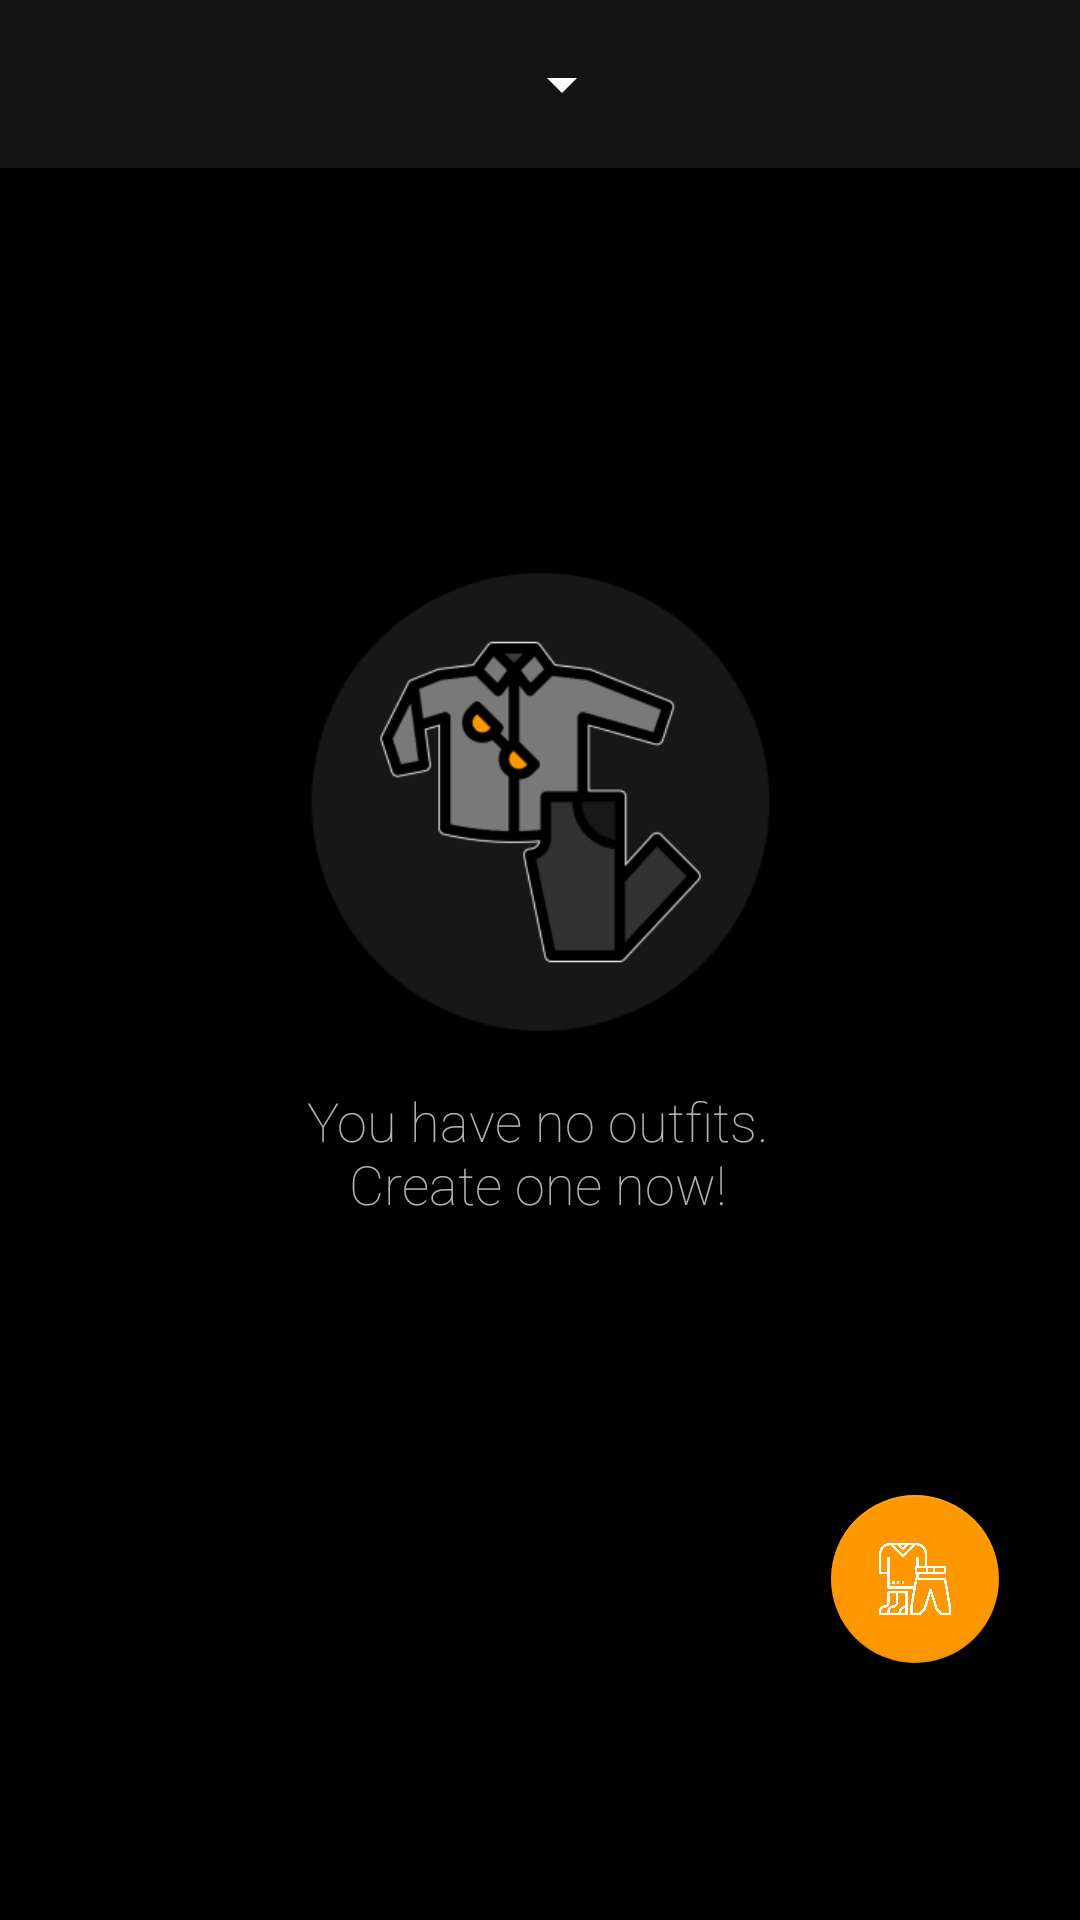

Where to tap for icons on this 1080x1920 app screen, as [x,y]:
outfit: [915,1579]
outfit empty: [540,802]
